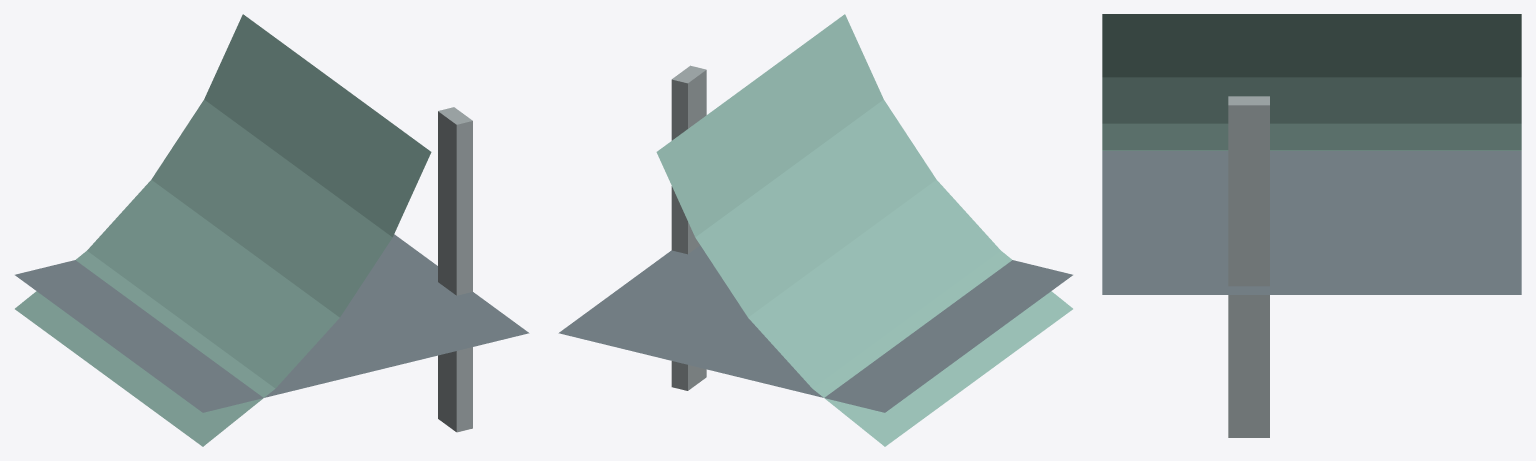
File: cell_68.obj
The picture shows the model from 3 angles, left to right: view 1: azimuth 30°, elevation 25°; view 2: azimuth 150°, elevation 25°; view 3: azimuth 270°, elevation 25°; orthographic projection. The views are drawn at different scales.
Bounding box in the file's own units: 1 × 1 × 1.
